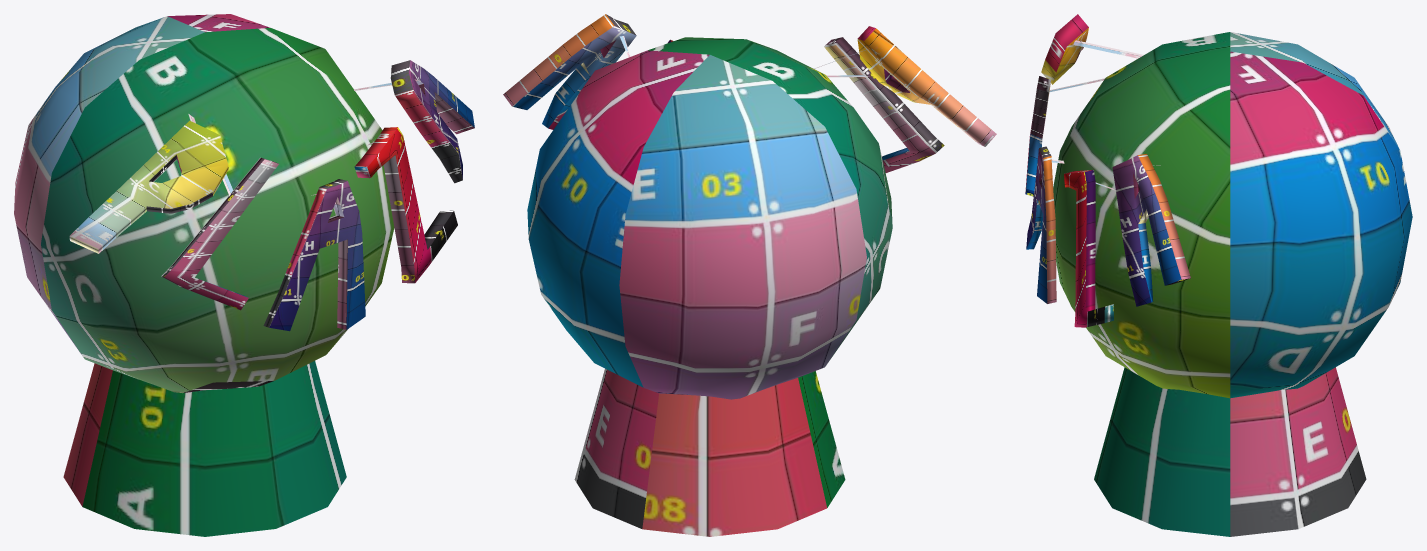
File: Globe_low.fbx
3 views of the same model, side by side, from view 1: azimuth 30°, elevation 25°; view 2: azimuth 150°, elevation 25°; view 3: azimuth 270°, elevation 25° (orthographic). The views are drawn at different scales.
Visible parts, largest first — view 1: Globe_low, GlobeBase_low, Letters_low; view 2: Globe_low, GlobeBase_low, Letters_low; view 3: Globe_low, GlobeBase_low, Letters_low, Support_low.
Boxes of the visible parts, bbox=[...] form: Globe_low: bbox=[14, 14, 394, 393]; GlobeBase_low: bbox=[63, 361, 346, 536]; Letters_low: bbox=[69, 60, 474, 331]; Globe_low: bbox=[527, 37, 892, 399]; GlobeBase_low: bbox=[574, 368, 845, 536]; Letters_low: bbox=[503, 14, 996, 172]; Globe_low: bbox=[1053, 32, 1412, 398]; GlobeBase_low: bbox=[1094, 367, 1366, 536]; Letters_low: bbox=[1025, 14, 1190, 327]; Support_low: bbox=[1049, 40, 1160, 190].
Size of the model in its own units: 536 by 496 by 407.
Materials: 1 (1 with a texture image).
